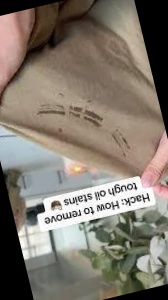oil: (70, 99, 105, 135), (33, 98, 72, 128), (106, 125, 134, 159)
